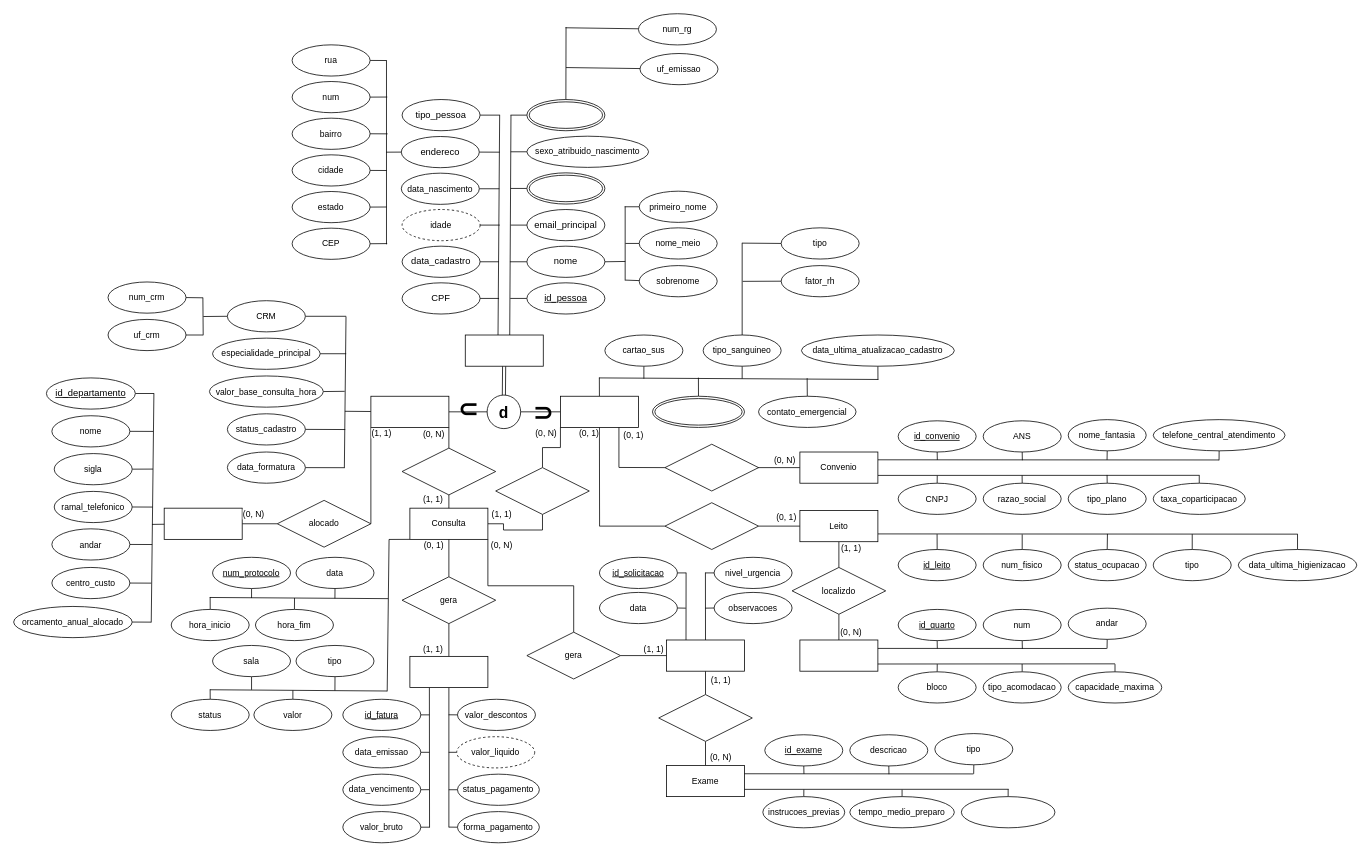
Image size: 1370x856. Some labels were removed from this diagram. The box of each missing label's shape, as (x1, y1, x2, y2) in pixels:
atende: (401, 447, 496, 495)
corresponde: (658, 694, 752, 741)
Departamento: (163, 507, 242, 539)
Fatura: (409, 656, 488, 688)
historico_alergias: (652, 395, 745, 427)
Medico: (370, 395, 449, 427)
ocupa: (664, 502, 759, 550)
Paciente: (560, 395, 638, 427)
Pessoa: (464, 334, 543, 366)
preco_tabela_exame: (961, 796, 1055, 828)
Quarto: (799, 639, 878, 671)
realiza: (495, 467, 589, 514)
RG: (526, 99, 605, 131)
Solicitacao: (666, 639, 745, 671)
telefone: (526, 172, 605, 204)
vinculado: (664, 443, 759, 491)
